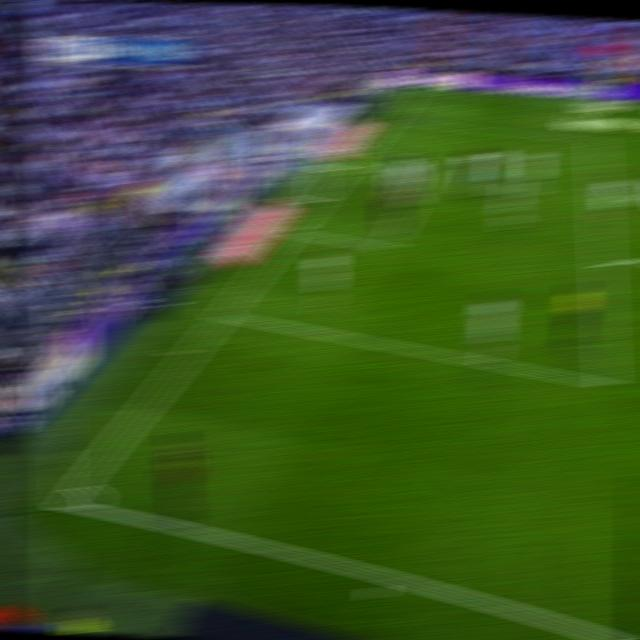bigarea_bottom_inner: (53, 490, 77, 514)
bigarea_top_outter: (382, 113, 400, 122)
bottom_arc_area_intersection: (212, 304, 235, 323)
corner: (407, 86, 428, 93)
smallarea_bottom_inner: (376, 235, 398, 256)
smallarea_bottom_outter: (281, 223, 303, 240)
smallarea_top_inner: (425, 155, 444, 166)
smallarea_top_outter: (353, 143, 373, 157)
